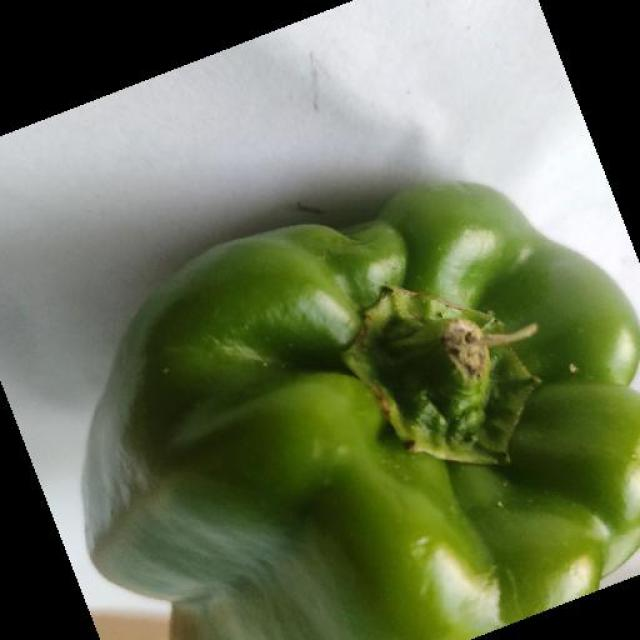Fresh_Capsicum: (112, 300, 640, 601)
